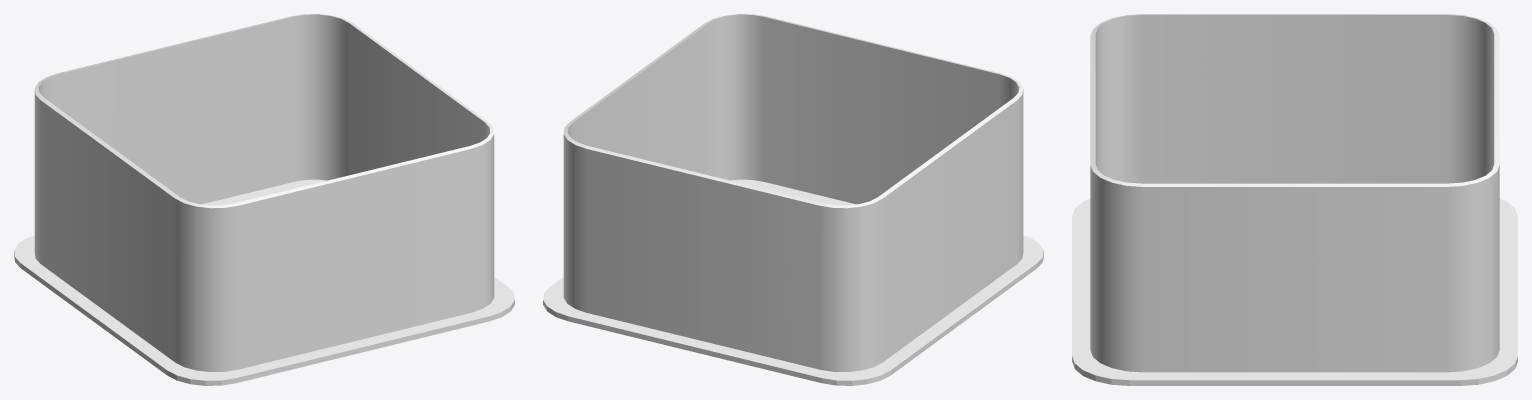
Rendered from Merge_FloorPortal.fbx.
The picture shows the model from 3 angles, left to right: view 1: azimuth 30°, elevation 25°; view 2: azimuth 150°, elevation 25°; view 3: azimuth 270°, elevation 25°; orthographic projection. The views are drawn at different scales.
Parts seen in each view (by area): view 1: Plane, Plane.004, Plane.001, Plane.003, Plane.002; view 2: Plane, Plane.004, Plane.001, Plane.003, Plane.002; view 3: Plane, Plane.004, Plane.001, Plane.003.
Part boxes in pixels (left/top/right/bottom): Plane: left=34, top=89, right=494, bottom=371; Plane.004: left=34, top=14, right=494, bottom=208; Plane.001: left=14, top=235, right=514, bottom=380; Plane.003: left=14, top=250, right=514, bottom=385; Plane.002: left=202, top=179, right=326, bottom=205; Plane: left=563, top=89, right=1023, bottom=371; Plane.004: left=563, top=14, right=1023, bottom=208; Plane.001: left=543, top=235, right=1043, bottom=380; Plane.003: left=543, top=250, right=1043, bottom=385; Plane.002: left=731, top=179, right=855, bottom=205; Plane: left=1090, top=165, right=1499, bottom=372; Plane.004: left=1090, top=14, right=1499, bottom=186; Plane.001: left=1072, top=199, right=1517, bottom=380; Plane.003: left=1072, top=356, right=1517, bottom=385.
Size of the model in its own units: 2.18 by 1.04 by 2.18.
1 material, 1 textured.
